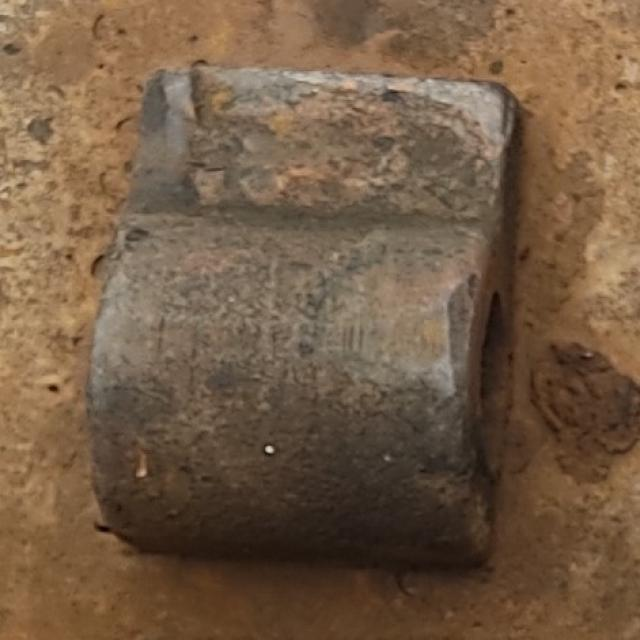track_bolt_missing: (76, 207, 513, 574)
